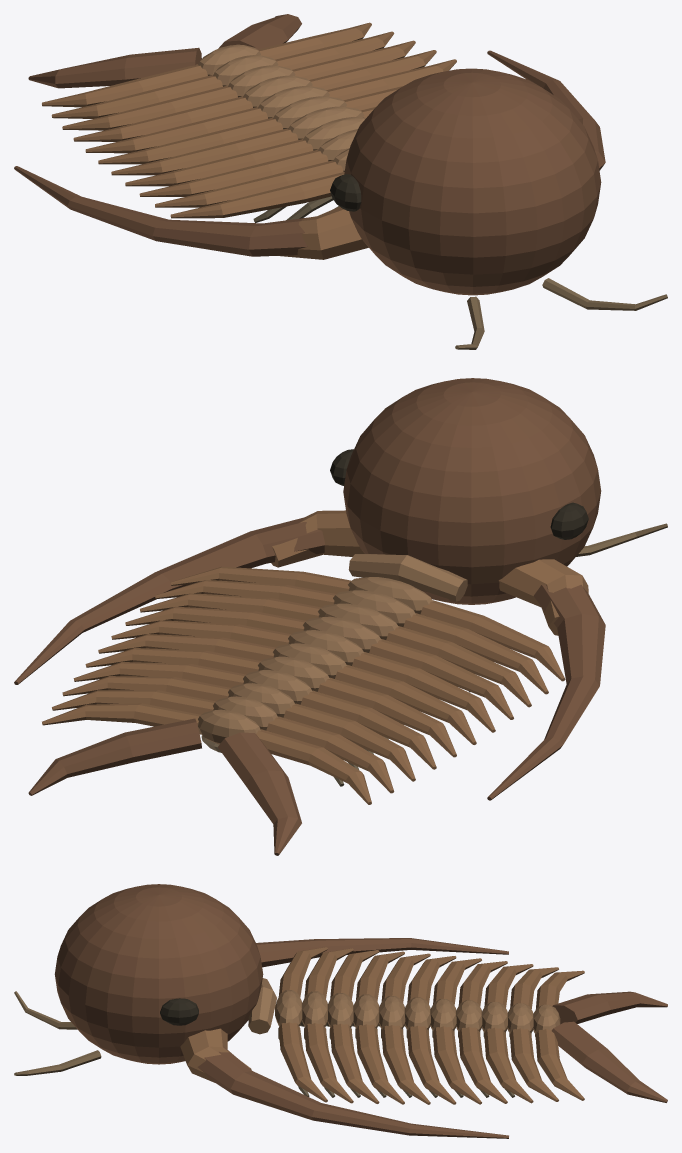
3 views of the same model, one above another, from view 1: azimuth 30°, elevation 25°; view 2: azimuth 150°, elevation 25°; view 3: azimuth 270°, elevation 25° (orthographic). The views are drawn at different scales.
Visible parts, largest first — view 1: inflated-spherical-glabella, twenty-two-separated-pleural-spines, paired-sweeping-genal-spines, narrow-segmented-axial-trunk, paired-pygidial-rear-extensions, small-free-cheeks, inferred-paired-antennae, subordinate-lateral-eyes, inferred-short-ventral-limbs; view 2: twenty-two-separated-pleural-spines, inflated-spherical-glabella, paired-sweeping-genal-spines, narrow-segmented-axial-trunk, paired-pygidial-rear-extensions, small-free-cheeks, occipital-neck-ring, subordinate-lateral-eyes, inferred-paired-antennae; view 3: inflated-spherical-glabella, twenty-two-separated-pleural-spines, paired-sweeping-genal-spines, narrow-segmented-axial-trunk, paired-pygidial-rear-extensions, small-free-cheeks, inferred-paired-antennae, occipital-neck-ring, subordinate-lateral-eyes.
Boxes of the visible parts, <box> form: inflated-spherical-glabella: <box>344,68,601,295</box>; twenty-two-separated-pleural-spines: <box>42,22,456,218</box>; paired-sweeping-genal-spines: <box>14,50,605,256</box>; narrow-segmented-axial-trunk: <box>198,44,366,171</box>; paired-pygidial-rear-extensions: <box>28,14,301,88</box>; small-free-cheeks: <box>277,206,368,259</box>; inferred-paired-antennae: <box>455,278,667,349</box>; subordinate-lateral-eyes: <box>330,174,361,211</box>; inferred-short-ventral-limbs: <box>253,196,339,222</box>; twenty-two-separated-pleural-spines: <box>42,566,565,804</box>; inflated-spherical-glabella: <box>343,378,601,604</box>; paired-sweeping-genal-spines: <box>14,517,605,800</box>; narrow-segmented-axial-trunk: <box>198,577,433,744</box>; paired-pygidial-rear-extensions: <box>28,718,301,855</box>; small-free-cheeks: <box>271,510,588,635</box>; occipital-neck-ring: <box>348,554,467,601</box>; subordinate-lateral-eyes: <box>330,449,588,539</box>; inferred-paired-antennae: <box>576,523,667,556</box>; inflated-spherical-glabella: <box>54,884,263,1064</box>; twenty-two-separated-pleural-spines: <box>278,947,584,1104</box>; paired-sweeping-genal-spines: <box>197,938,508,1138</box>; narrow-segmented-axial-trunk: <box>275,990,560,1034</box>; paired-pygidial-rear-extensions: <box>551,991,667,1102</box>; small-free-cheeks: <box>180,1028,251,1082</box>; inferred-paired-antennae: <box>14,991,101,1075</box>; occipital-neck-ring: <box>248,978,276,1034</box>; subordinate-lateral-eyes: <box>160,998,198,1025</box>.
Bounding box in the file's own units: 0.0245 × 0.00991 × 0.0351.
